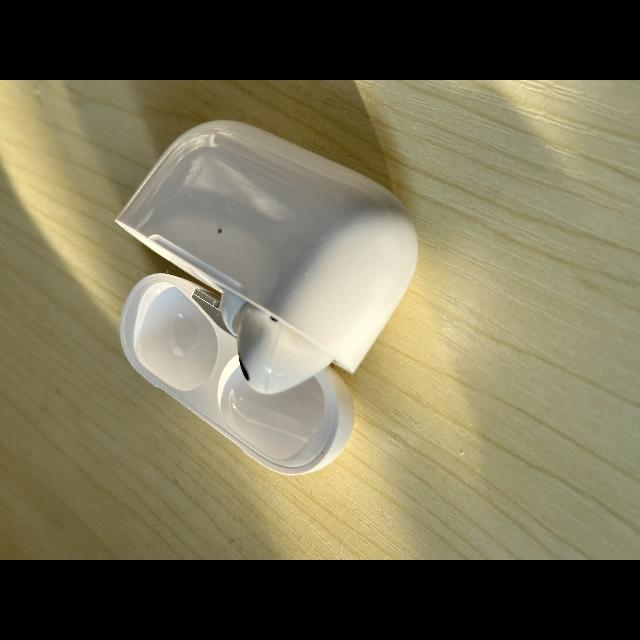AirPods Pro: (115, 120, 418, 475)
